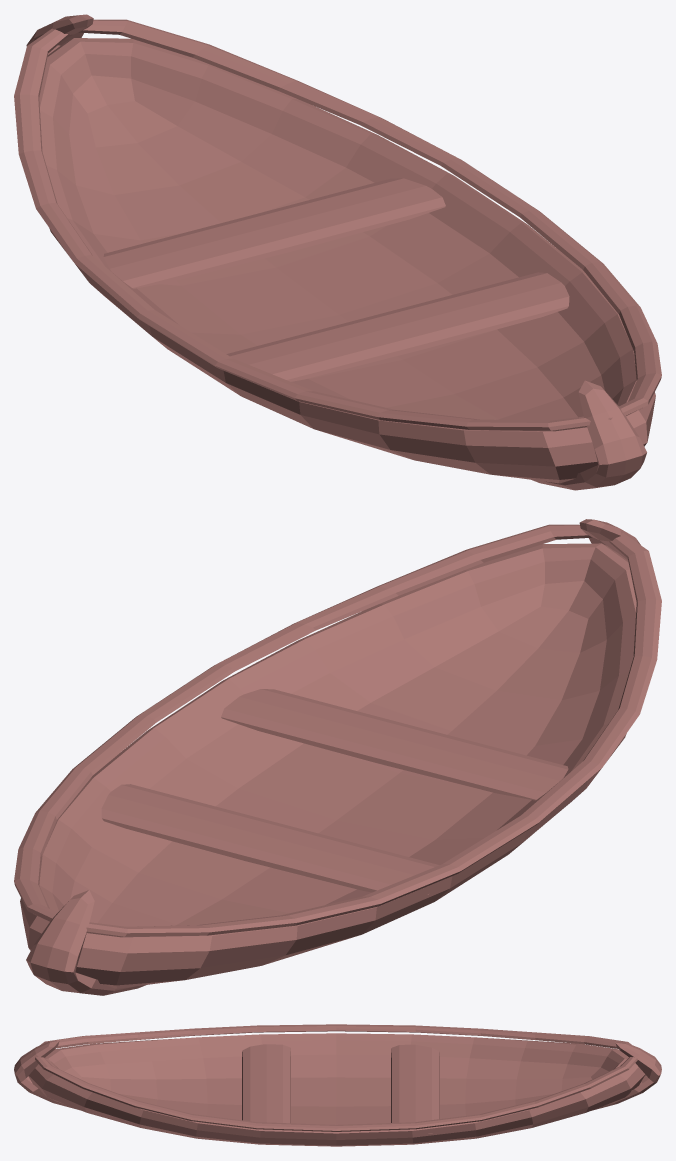
Rendered from Raft.fbx.
3 views of the same model, one above another, from view 1: azimuth 30°, elevation 25°; view 2: azimuth 150°, elevation 25°; view 3: azimuth 270°, elevation 25° (orthographic). The views are drawn at different scales.
Visible parts, largest first — view 1: Cannoe; view 2: Cannoe; view 3: Cannoe.
Part boxes in pixels (left/top/right/bottom): Cannoe: left=14, top=14, right=661, bottom=490; Cannoe: left=14, top=519, right=661, bottom=995; Cannoe: left=14, top=1024, right=661, bottom=1146.
Size of the model in its own units: 169 by 61.33 by 420.
